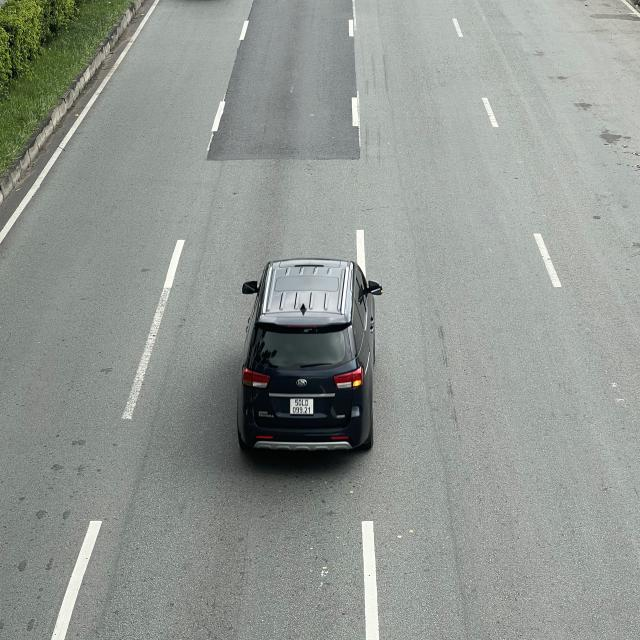car: (239, 257, 384, 455)
